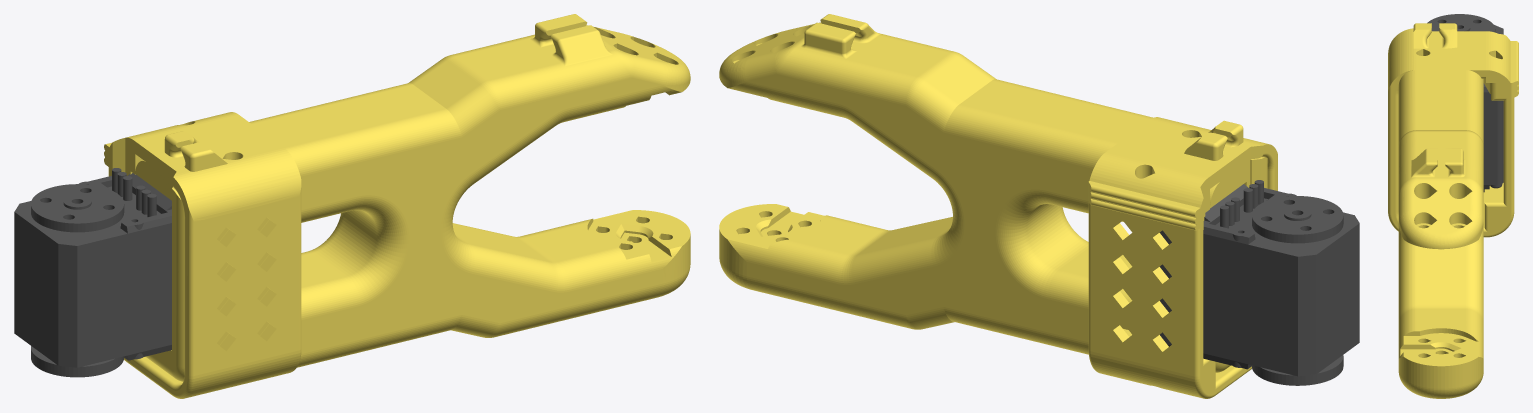
The model's file is lower_arm.glb.
3 views of the same model, side by side, from view 1: azimuth 30°, elevation 25°; view 2: azimuth 150°, elevation 25°; view 3: azimuth 270°, elevation 25° (orthographic). The views are drawn at different scales.
Visible parts, largest first — view 1: lower_arm; view 2: lower_arm; view 3: lower_arm.
Boxes of the visible parts, x1,y1,x2,y2 form: lower_arm: [14, 14, 690, 398]; lower_arm: [719, 14, 1359, 398]; lower_arm: [1388, 14, 1518, 398].
Bounding box in the file's own units: 0.1571 × 0.0644 × 0.0369.
